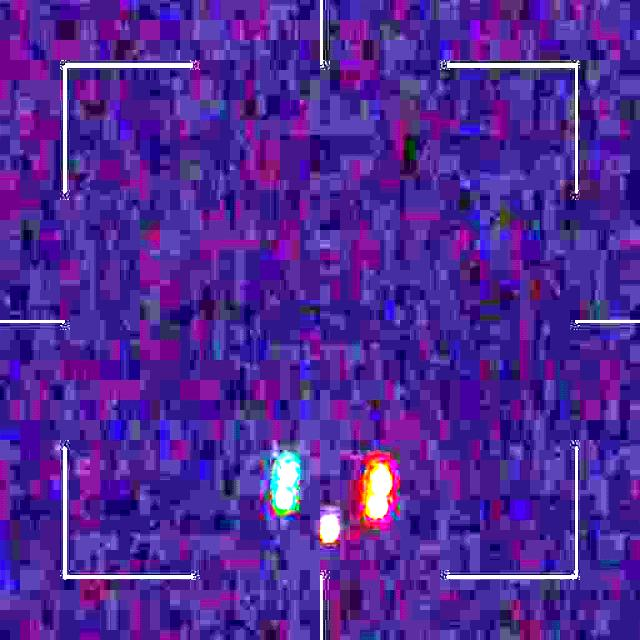bird: (274, 456, 392, 540)
